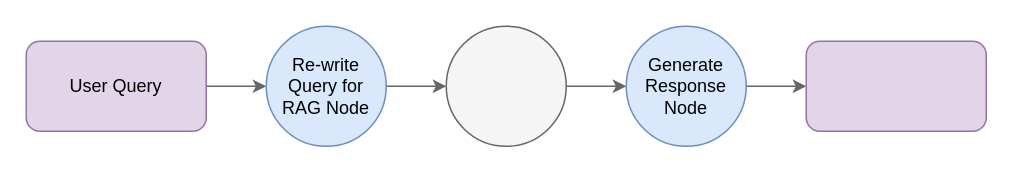
Some shapes in this 1013 by 173 pixel diagram are drawn without their labels. Each missing label, with the centre of its shape:
"AI Answer" belongs at (895,85).
"Public RAG Tool Node" belongs at (505,85).
